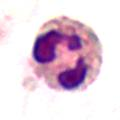eosi: (29, 12, 105, 94)
